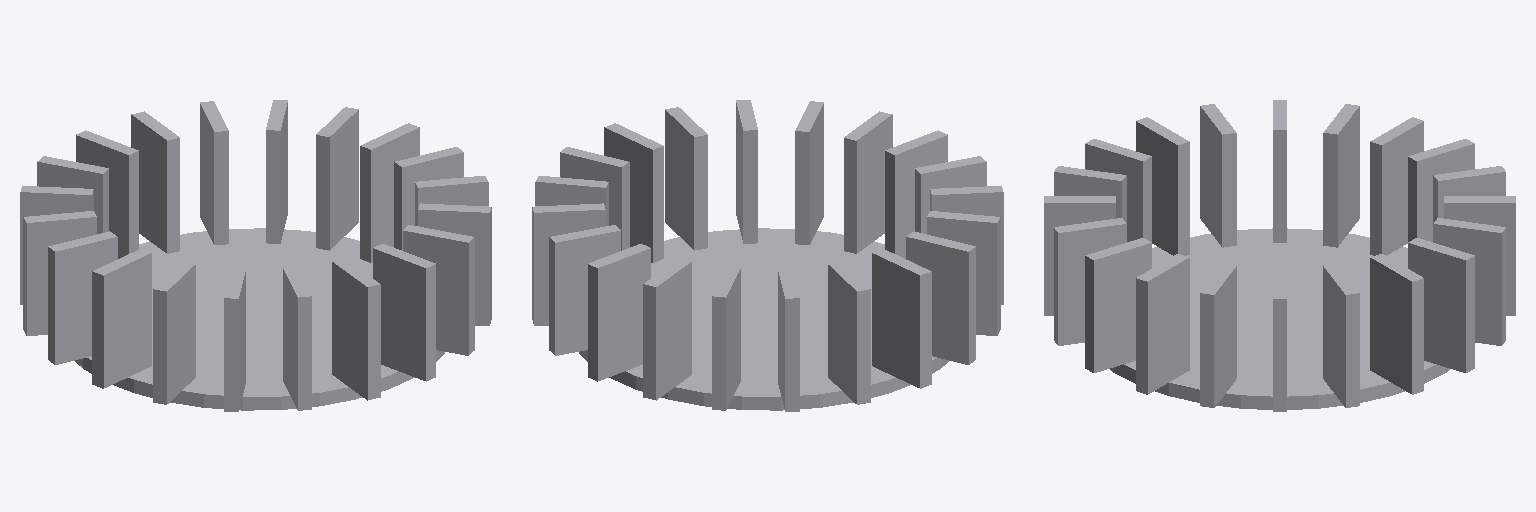
URDF robot description (bowl):
<?xml version="1.0"?>
<!--
  bowl.urdf (auto-generated bởi generate_bowl.py)
  Bowl dạng compound shape: 1 đáy (cylinder) + 20 mảnh tường (box)
  ghép vòng tròn, tạo thành hình lõm thật sự -> vật thể có thể rơi vào bên trong
  khi mô phỏng va chạm trong pybullet.

  Kích thước: bán kính 0.08m, cao 0.05m.
  Muốn đổi kích thước -> sửa tham số ở đầu generate_bowl.py rồi chạy lại script.
-->
<robot name="bowl">
  <link name="bowl_link">
    <inertial>
      <mass value="0.15"/>
      <inertia ixx="0.0003" ixy="0.0" ixz="0.0"
               iyy="0.0003" iyz="0.0"
               izz="0.0004"/>
    </inertial>

    <visual>
      <origin xyz="0 0 0.0030" rpy="0 0 0"/>
      <geometry>
        <cylinder radius="0.0800" length="0.0060"/>
      </geometry>
      <material name="bowl_color">
        <color rgba="0.75 0.75 0.78 1.0"/>
      </material>
    </visual>
    <collision>
      <origin xyz="0 0 0.0030" rpy="0 0 0"/>
      <geometry>
        <cylinder radius="0.0800" length="0.0060"/>
      </geometry>
    </collision>
    <visual>
      <origin xyz="0.0800 0.0000 0.0310" rpy="0 0 1.5708"/>
      <geometry>
        <box size="0.0060 0.0288 0.0500"/>
      </geometry>
      <material name="bowl_color">
        <color rgba="0.75 0.75 0.78 1.0"/>
      </material>
    </visual>
    <collision>
      <origin xyz="0.0800 0.0000 0.0310" rpy="0 0 1.5708"/>
      <geometry>
        <box size="0.0060 0.0288 0.0500"/>
      </geometry>
    </collision>
    <visual>
      <origin xyz="0.0761 0.0247 0.0310" rpy="0 0 1.8850"/>
      <geometry>
        <box size="0.0060 0.0288 0.0500"/>
      </geometry>
      <material name="bowl_color">
        <color rgba="0.75 0.75 0.78 1.0"/>
      </material>
    </visual>
    <collision>
      <origin xyz="0.0761 0.0247 0.0310" rpy="0 0 1.8850"/>
      <geometry>
        <box size="0.0060 0.0288 0.0500"/>
      </geometry>
    </collision>
    <visual>
      <origin xyz="0.0647 0.0470 0.0310" rpy="0 0 2.1991"/>
      <geometry>
        <box size="0.0060 0.0288 0.0500"/>
      </geometry>
      <material name="bowl_color">
        <color rgba="0.75 0.75 0.78 1.0"/>
      </material>
    </visual>
    <collision>
      <origin xyz="0.0647 0.0470 0.0310" rpy="0 0 2.1991"/>
      <geometry>
        <box size="0.0060 0.0288 0.0500"/>
      </geometry>
    </collision>
    <visual>
      <origin xyz="0.0470 0.0647 0.0310" rpy="0 0 2.5133"/>
      <geometry>
        <box size="0.0060 0.0288 0.0500"/>
      </geometry>
      <material name="bowl_color">
        <color rgba="0.75 0.75 0.78 1.0"/>
      </material>
    </visual>
    <collision>
      <origin xyz="0.0470 0.0647 0.0310" rpy="0 0 2.5133"/>
      <geometry>
        <box size="0.0060 0.0288 0.0500"/>
      </geometry>
    </collision>
    <visual>
      <origin xyz="0.0247 0.0761 0.0310" rpy="0 0 2.8274"/>
      <geometry>
        <box size="0.0060 0.0288 0.0500"/>
      </geometry>
      <material name="bowl_color">
        <color rgba="0.75 0.75 0.78 1.0"/>
      </material>
    </visual>
    <collision>
      <origin xyz="0.0247 0.0761 0.0310" rpy="0 0 2.8274"/>
      <geometry>
        <box size="0.0060 0.0288 0.0500"/>
      </geometry>
    </collision>
    <visual>
      <origin xyz="0.0000 0.0800 0.0310" rpy="0 0 3.1416"/>
      <geometry>
        <box size="0.0060 0.0288 0.0500"/>
      </geometry>
      <material name="bowl_color">
        <color rgba="0.75 0.75 0.78 1.0"/>
      </material>
    </visual>
    <collision>
      <origin xyz="0.0000 0.0800 0.0310" rpy="0 0 3.1416"/>
      <geometry>
        <box size="0.0060 0.0288 0.0500"/>
      </geometry>
    </collision>
    <visual>
      <origin xyz="-0.0247 0.0761 0.0310" rpy="0 0 3.4558"/>
      <geometry>
        <box size="0.0060 0.0288 0.0500"/>
      </geometry>
      <material name="bowl_color">
        <color rgba="0.75 0.75 0.78 1.0"/>
      </material>
    </visual>
    <collision>
      <origin xyz="-0.0247 0.0761 0.0310" rpy="0 0 3.4558"/>
      <geometry>
        <box size="0.0060 0.0288 0.0500"/>
      </geometry>
    </collision>
    <visual>
      <origin xyz="-0.0470 0.0647 0.0310" rpy="0 0 3.7699"/>
      <geometry>
        <box size="0.0060 0.0288 0.0500"/>
      </geometry>
      <material name="bowl_color">
        <color rgba="0.75 0.75 0.78 1.0"/>
      </material>
    </visual>
    <collision>
      <origin xyz="-0.0470 0.0647 0.0310" rpy="0 0 3.7699"/>
      <geometry>
        <box size="0.0060 0.0288 0.0500"/>
      </geometry>
    </collision>
    <visual>
      <origin xyz="-0.0647 0.0470 0.0310" rpy="0 0 4.0841"/>
      <geometry>
        <box size="0.0060 0.0288 0.0500"/>
      </geometry>
      <material name="bowl_color">
        <color rgba="0.75 0.75 0.78 1.0"/>
      </material>
    </visual>
    <collision>
      <origin xyz="-0.0647 0.0470 0.0310" rpy="0 0 4.0841"/>
      <geometry>
        <box size="0.0060 0.0288 0.0500"/>
      </geometry>
    </collision>
    <visual>
      <origin xyz="-0.0761 0.0247 0.0310" rpy="0 0 4.3982"/>
      <geometry>
        <box size="0.0060 0.0288 0.0500"/>
      </geometry>
      <material name="bowl_color">
        <color rgba="0.75 0.75 0.78 1.0"/>
      </material>
    </visual>
    <collision>
      <origin xyz="-0.0761 0.0247 0.0310" rpy="0 0 4.3982"/>
      <geometry>
        <box size="0.0060 0.0288 0.0500"/>
      </geometry>
    </collision>
    <visual>
      <origin xyz="-0.0800 0.0000 0.0310" rpy="0 0 4.7124"/>
      <geometry>
        <box size="0.0060 0.0288 0.0500"/>
      </geometry>
      <material name="bowl_color">
        <color rgba="0.75 0.75 0.78 1.0"/>
      </material>
    </visual>
    <collision>
      <origin xyz="-0.0800 0.0000 0.0310" rpy="0 0 4.7124"/>
      <geometry>
        <box size="0.0060 0.0288 0.0500"/>
      </geometry>
    </collision>
    <visual>
      <origin xyz="-0.0761 -0.0247 0.0310" rpy="0 0 5.0265"/>
      <geometry>
        <box size="0.0060 0.0288 0.0500"/>
      </geometry>
      <material name="bowl_color">
        <color rgba="0.75 0.75 0.78 1.0"/>
      </material>
    </visual>
    <collision>
      <origin xyz="-0.0761 -0.0247 0.0310" rpy="0 0 5.0265"/>
      <geometry>
        <box size="0.0060 0.0288 0.0500"/>
      </geometry>
    </collision>
    <visual>
      <origin xyz="-0.0647 -0.0470 0.0310" rpy="0 0 5.3407"/>
      <geometry>
        <box size="0.0060 0.0288 0.0500"/>
      </geometry>
      <material name="bowl_color">
        <color rgba="0.75 0.75 0.78 1.0"/>
      </material>
    </visual>
    <collision>
      <origin xyz="-0.0647 -0.0470 0.0310" rpy="0 0 5.3407"/>
      <geometry>
        <box size="0.0060 0.0288 0.0500"/>
      </geometry>
    </collision>
    <visual>
      <origin xyz="-0.0470 -0.0647 0.0310" rpy="0 0 5.6549"/>
      <geometry>
        <box size="0.0060 0.0288 0.0500"/>
      </geometry>
      <material name="bowl_color">
        <color rgba="0.75 0.75 0.78 1.0"/>
      </material>
    </visual>
    <collision>
      <origin xyz="-0.0470 -0.0647 0.0310" rpy="0 0 5.6549"/>
      <geometry>
        <box size="0.0060 0.0288 0.0500"/>
      </geometry>
    </collision>
    <visual>
      <origin xyz="-0.0247 -0.0761 0.0310" rpy="0 0 5.9690"/>
      <geometry>
        <box size="0.0060 0.0288 0.0500"/>
      </geometry>
      <material name="bowl_color">
        <color rgba="0.75 0.75 0.78 1.0"/>
      </material>
    </visual>
    <collision>
      <origin xyz="-0.0247 -0.0761 0.0310" rpy="0 0 5.9690"/>
      <geometry>
        <box size="0.0060 0.0288 0.0500"/>
      </geometry>
    </collision>
    <visual>
      <origin xyz="-0.0000 -0.0800 0.0310" rpy="0 0 6.2832"/>
      <geometry>
        <box size="0.0060 0.0288 0.0500"/>
      </geometry>
      <material name="bowl_color">
        <color rgba="0.75 0.75 0.78 1.0"/>
      </material>
    </visual>
    <collision>
      <origin xyz="-0.0000 -0.0800 0.0310" rpy="0 0 6.2832"/>
      <geometry>
        <box size="0.0060 0.0288 0.0500"/>
      </geometry>
    </collision>
    <visual>
      <origin xyz="0.0247 -0.0761 0.0310" rpy="0 0 6.5973"/>
      <geometry>
        <box size="0.0060 0.0288 0.0500"/>
      </geometry>
      <material name="bowl_color">
        <color rgba="0.75 0.75 0.78 1.0"/>
      </material>
    </visual>
    <collision>
      <origin xyz="0.0247 -0.0761 0.0310" rpy="0 0 6.5973"/>
      <geometry>
        <box size="0.0060 0.0288 0.0500"/>
      </geometry>
    </collision>
    <visual>
      <origin xyz="0.0470 -0.0647 0.0310" rpy="0 0 6.9115"/>
      <geometry>
        <box size="0.0060 0.0288 0.0500"/>
      </geometry>
      <material name="bowl_color">
        <color rgba="0.75 0.75 0.78 1.0"/>
      </material>
    </visual>
    <collision>
      <origin xyz="0.0470 -0.0647 0.0310" rpy="0 0 6.9115"/>
      <geometry>
        <box size="0.0060 0.0288 0.0500"/>
      </geometry>
    </collision>
    <visual>
      <origin xyz="0.0647 -0.0470 0.0310" rpy="0 0 7.2257"/>
      <geometry>
        <box size="0.0060 0.0288 0.0500"/>
      </geometry>
      <material name="bowl_color">
        <color rgba="0.75 0.75 0.78 1.0"/>
      </material>
    </visual>
    <collision>
      <origin xyz="0.0647 -0.0470 0.0310" rpy="0 0 7.2257"/>
      <geometry>
        <box size="0.0060 0.0288 0.0500"/>
      </geometry>
    </collision>
    <visual>
      <origin xyz="0.0761 -0.0247 0.0310" rpy="0 0 7.5398"/>
      <geometry>
        <box size="0.0060 0.0288 0.0500"/>
      </geometry>
      <material name="bowl_color">
        <color rgba="0.75 0.75 0.78 1.0"/>
      </material>
    </visual>
    <collision>
      <origin xyz="0.0761 -0.0247 0.0310" rpy="0 0 7.5398"/>
      <geometry>
        <box size="0.0060 0.0288 0.0500"/>
      </geometry>
    </collision>
  </link>
</robot>

--- Render facts (derived) ---
The picture shows the robot from 3 angles, left to right: view 1: azimuth 30°, elevation 25°; view 2: azimuth 150°, elevation 25°; view 3: azimuth 270°, elevation 25°; orthographic projection.
Robot: bowl — 1 links, 0 joints (none); root link bowl_link; default pose: all joints at 0.
Visible links, largest first — view 1: bowl_link; view 2: bowl_link; view 3: bowl_link.
Boxes of the visible links, x1,y1,x2,y2 form: bowl_link: (20, 100, 491, 411); bowl_link: (532, 100, 1003, 411); bowl_link: (1044, 100, 1515, 411).
Bounding box of the posed robot: 0.1888 × 0.1888 × 0.056 m (x, y, z).
Geometry: primitives only (box / cylinder / sphere), no mesh files.
